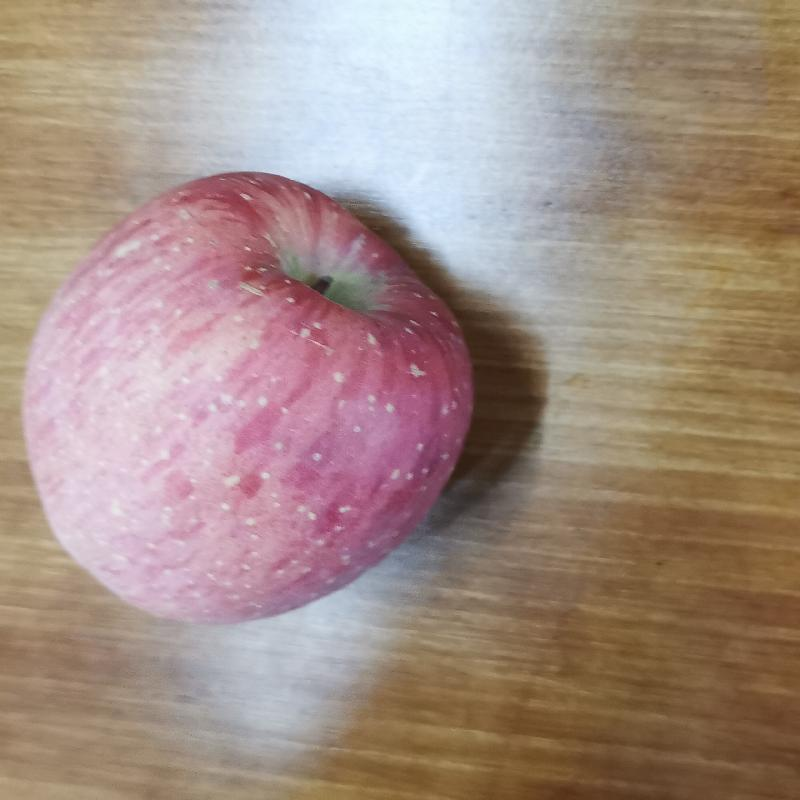apples: (14, 171, 480, 624)
